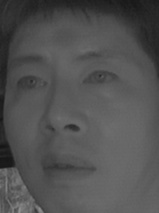eye: (13, 72, 48, 94), (80, 69, 120, 88)
mouth: (39, 149, 96, 182)
